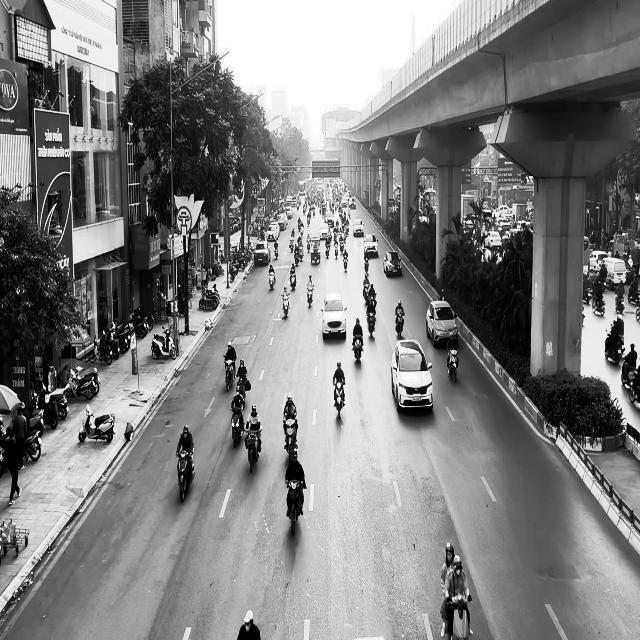car: (391, 338, 433, 412), (426, 299, 458, 348), (320, 292, 348, 340), (383, 250, 402, 276), (363, 234, 378, 257), (352, 218, 363, 237)
motorbike: (78, 403, 115, 443), (285, 479, 304, 536), (176, 447, 195, 502), (151, 326, 176, 360), (245, 426, 262, 474), (604, 328, 625, 364), (283, 418, 297, 462), (230, 405, 244, 447), (333, 382, 345, 419), (223, 356, 235, 391), (446, 347, 458, 382), (236, 374, 250, 403), (351, 334, 363, 362), (366, 307, 376, 335), (395, 311, 404, 338), (281, 292, 290, 318), (306, 284, 314, 308), (268, 270, 276, 290)
